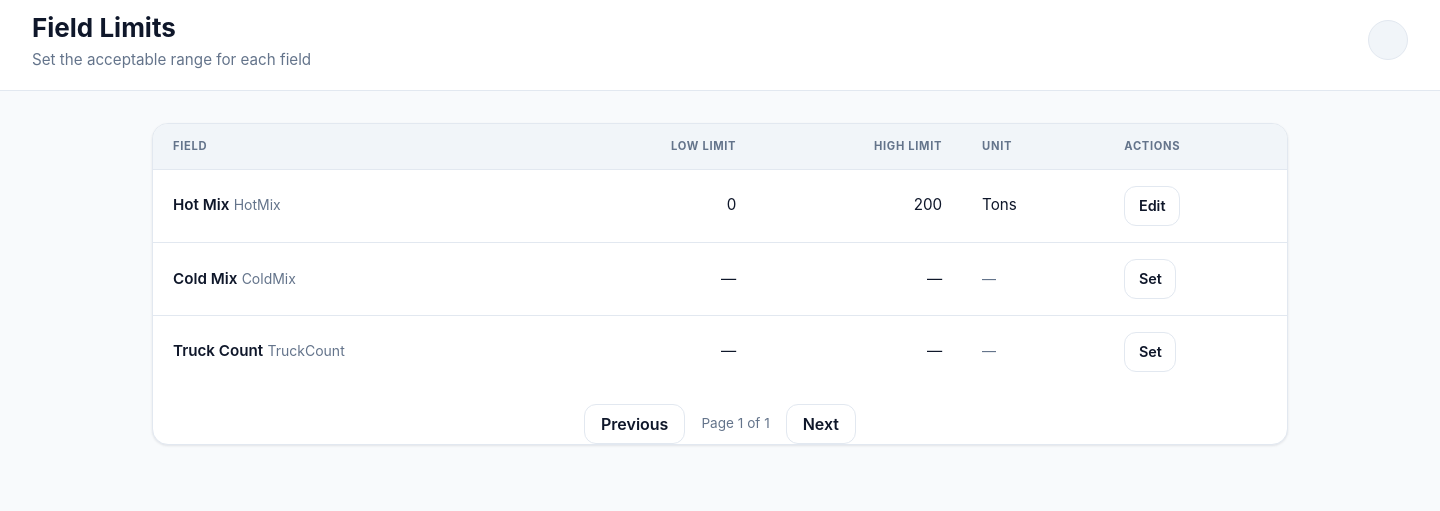
Scenario: FieldLimitsScreen › sets a field limit and reflects the saved values
Click the button "Set" in the row of "Cold Mix": [1150, 279] box [1124,259,1176,299]
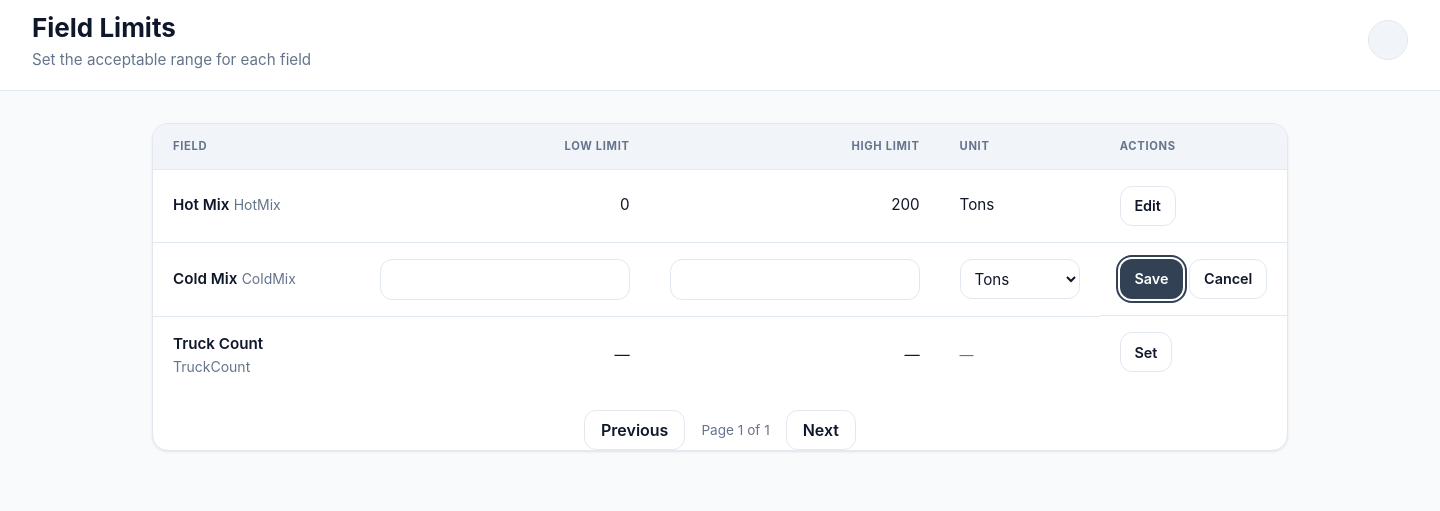
In the number field named "Low limit": [505, 280] box [380,259,630,300], type "1"
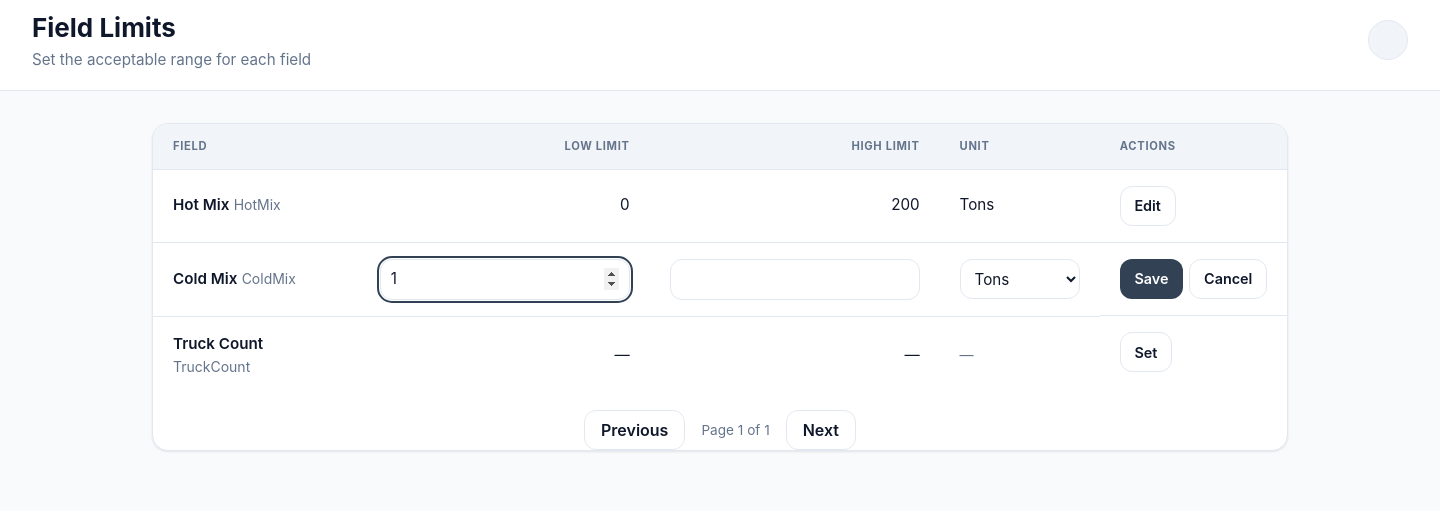
In the number field named "High limit": [795, 280] box [670,259,920,300], type "5"
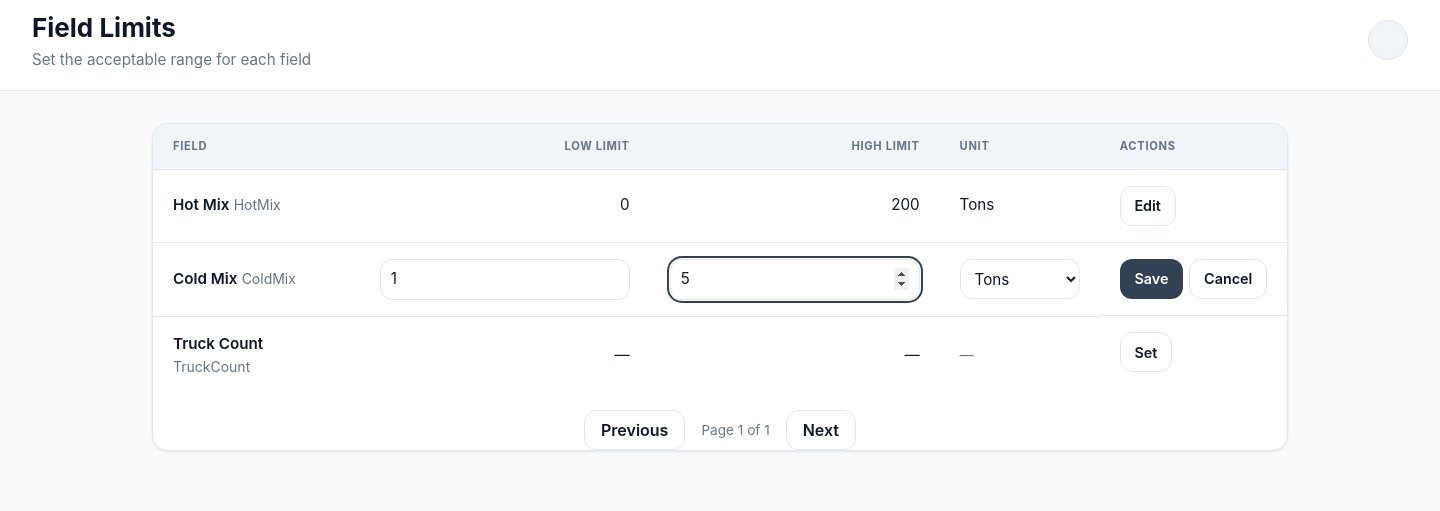
Select "Percentage" in the dropdown named "Unit": [1020, 280] box [960,260,1080,300]
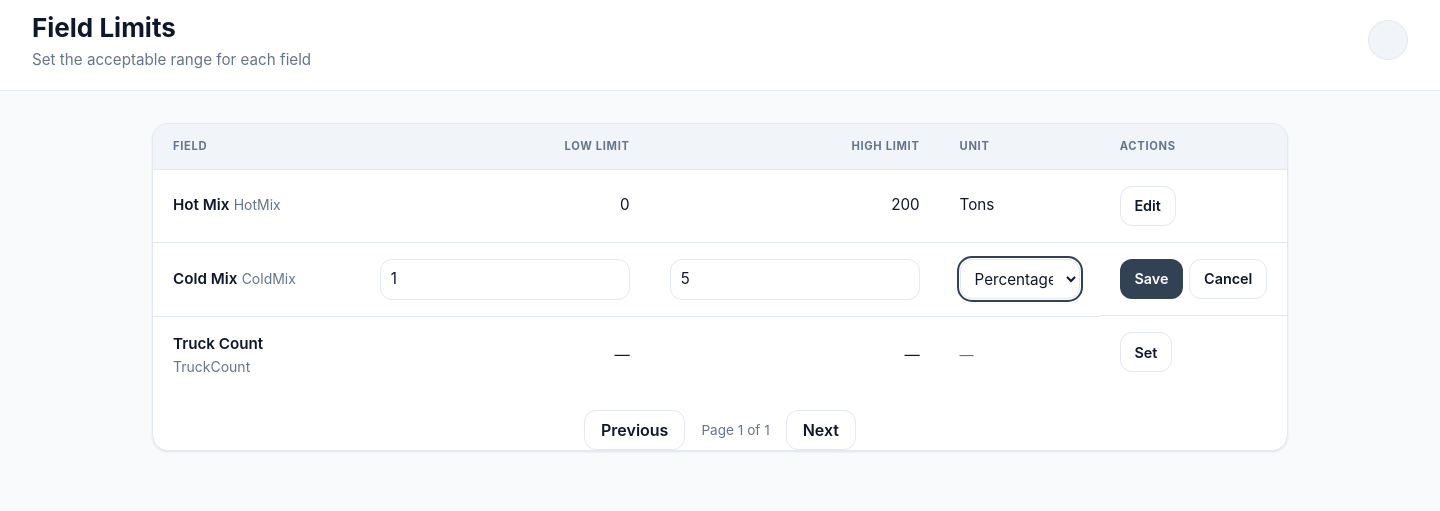
Click the button "Save": [1151, 279] box [1120,259,1183,299]
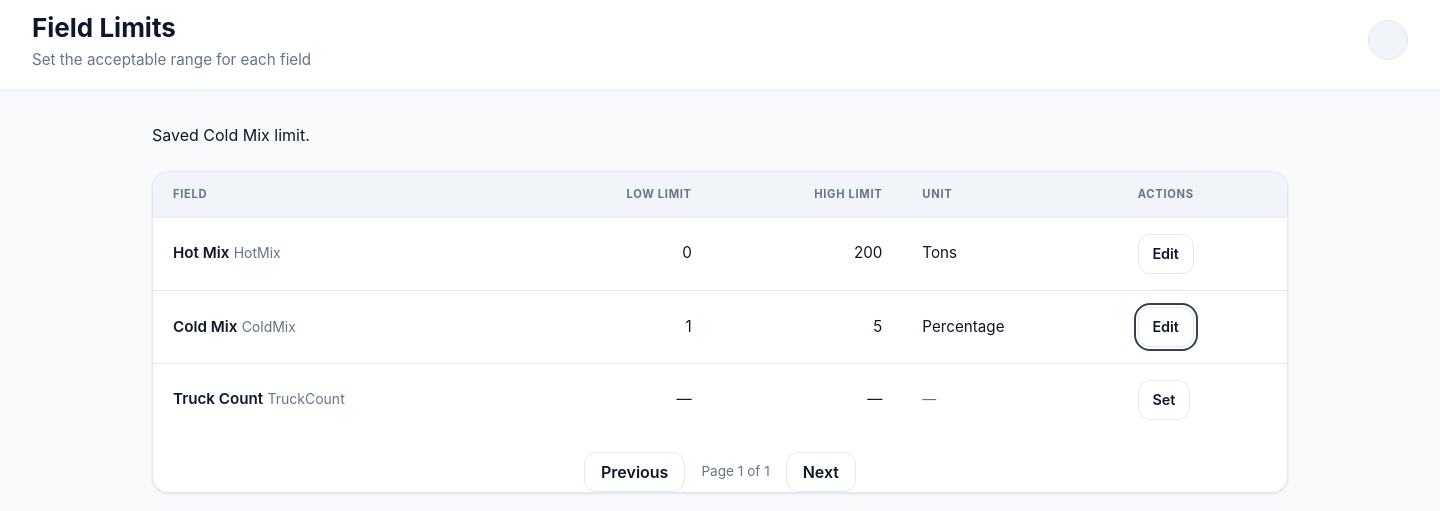
expect the text "Saved Cold Mix limit." is shown: met, box [152,125,310,145]
